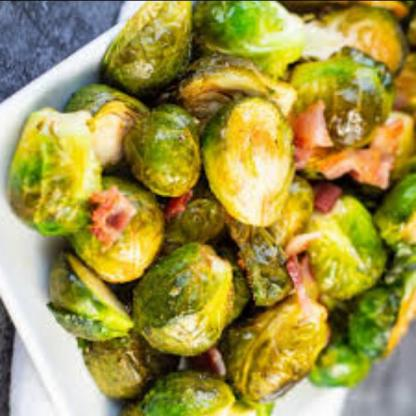brus capusta: (13, 0, 414, 416)
